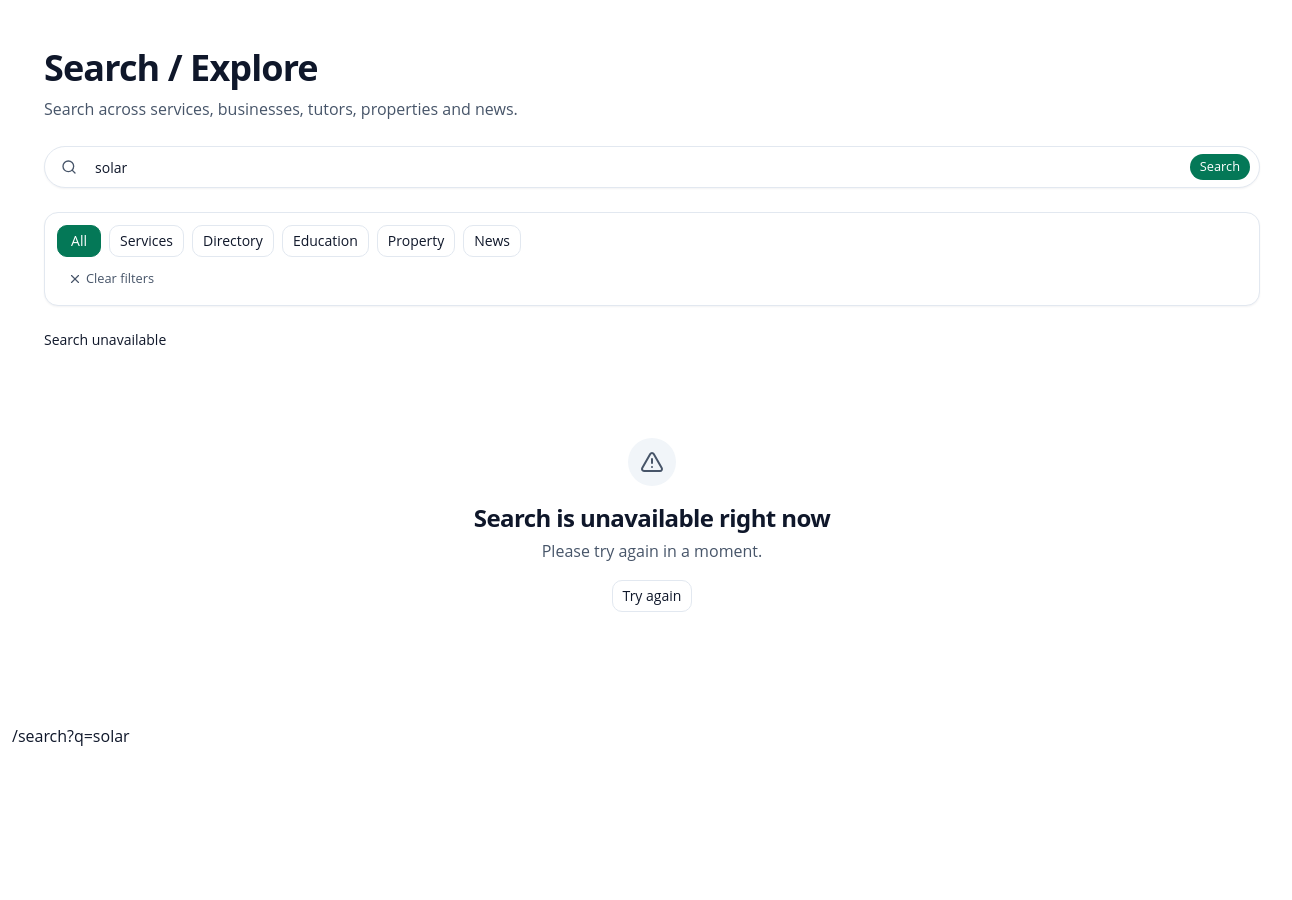
Test: SearchPage (real data) › a server failure is an error with Try again, never an empty list, and it recovers
Expected: the message "Search is unavailable right now Please try again in a moment. Try again" is shown, [474,438,830,612]
Expected: the text "Search unavailable" is shown, [44,330,166,349]
Click the button "Try again" at (652, 596), box [612,580,692,612]
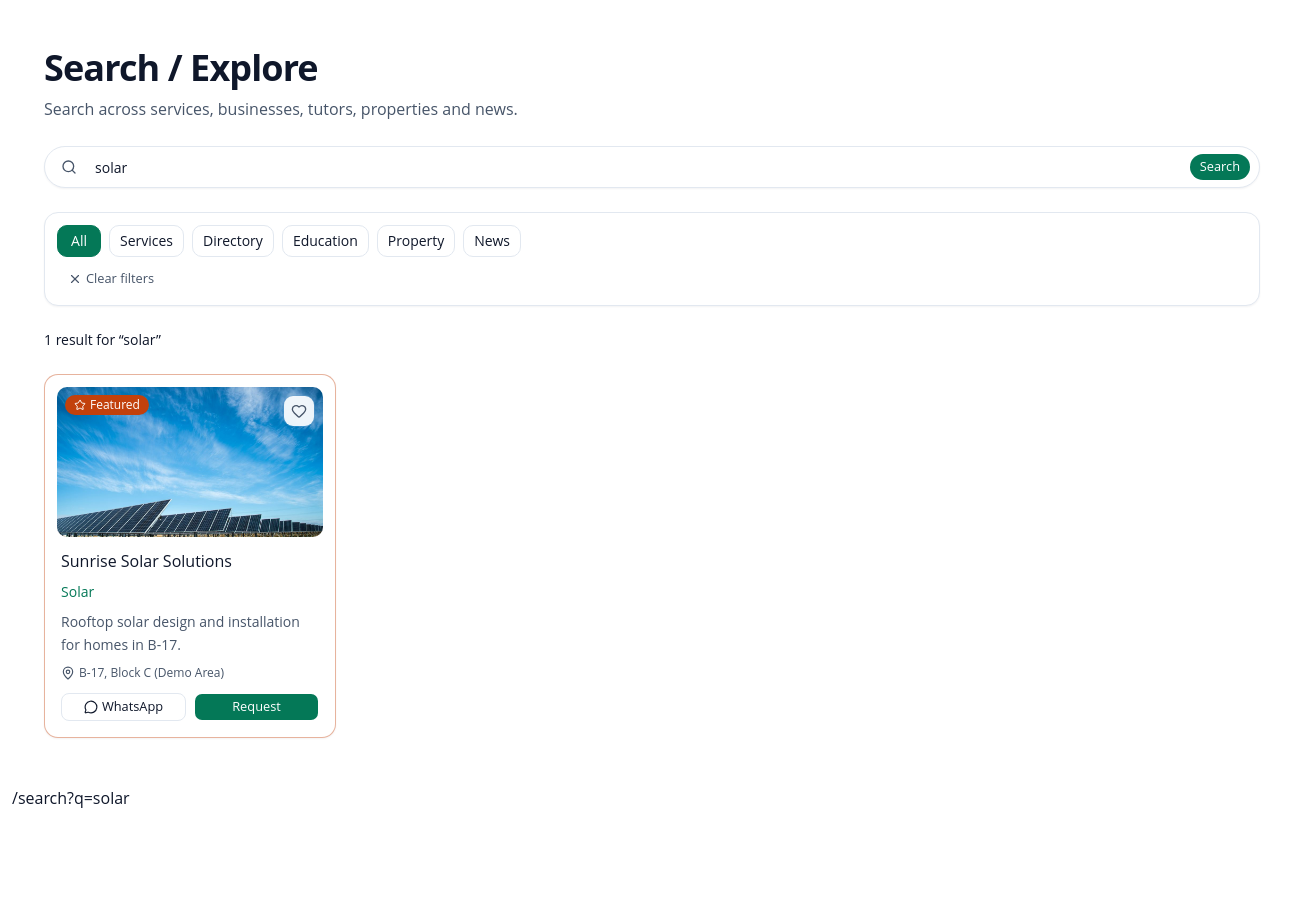
Expected: the text "Sunrise Solar Solutions" is shown, [61,549,232,573]
